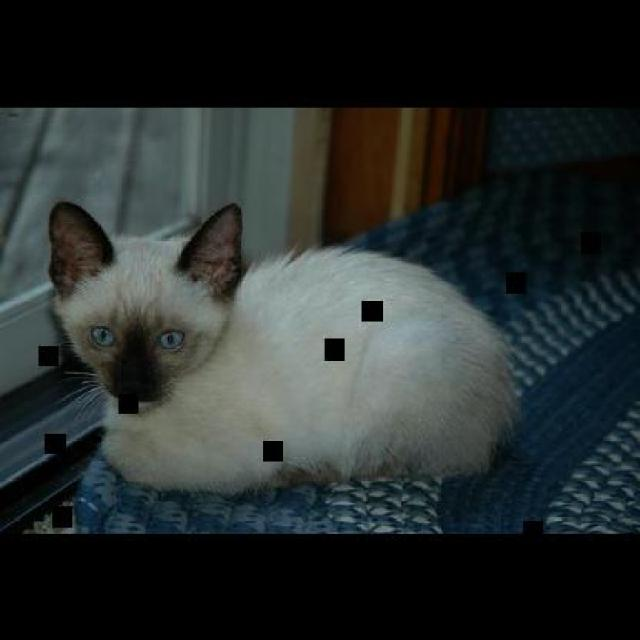unauthorized: (45, 197, 520, 495)
